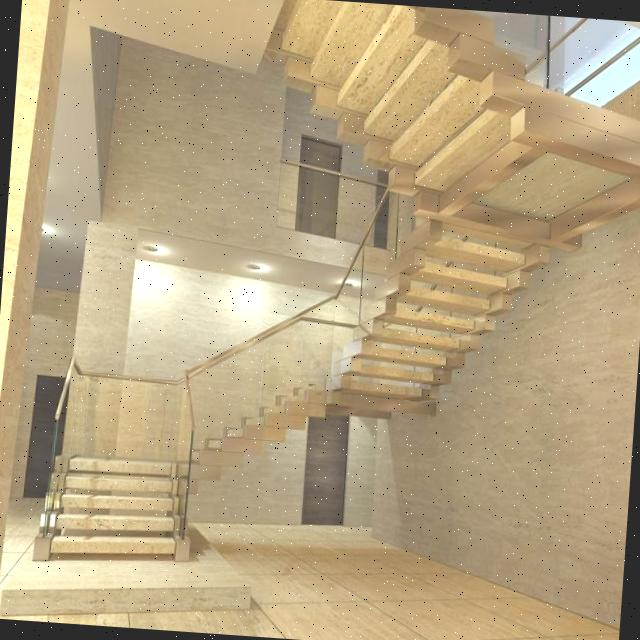stairs: (34, 449, 194, 569)
